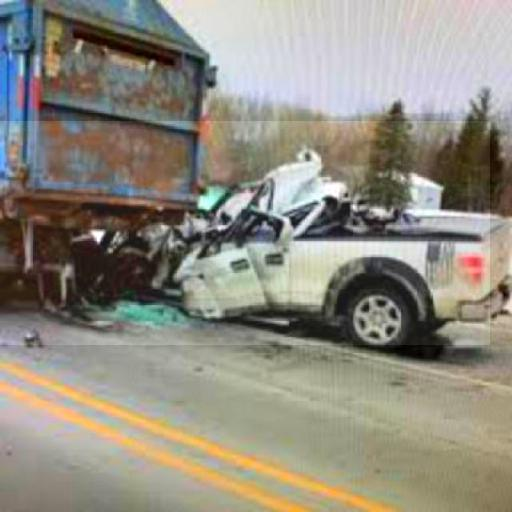小汽车撞小汽车: (0, 121, 490, 345)
